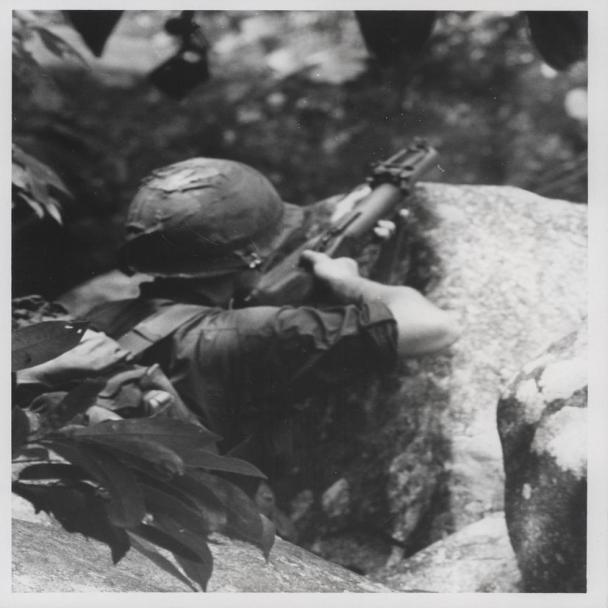Gun: (245, 126, 449, 303)
Hand: (305, 245, 441, 321)
